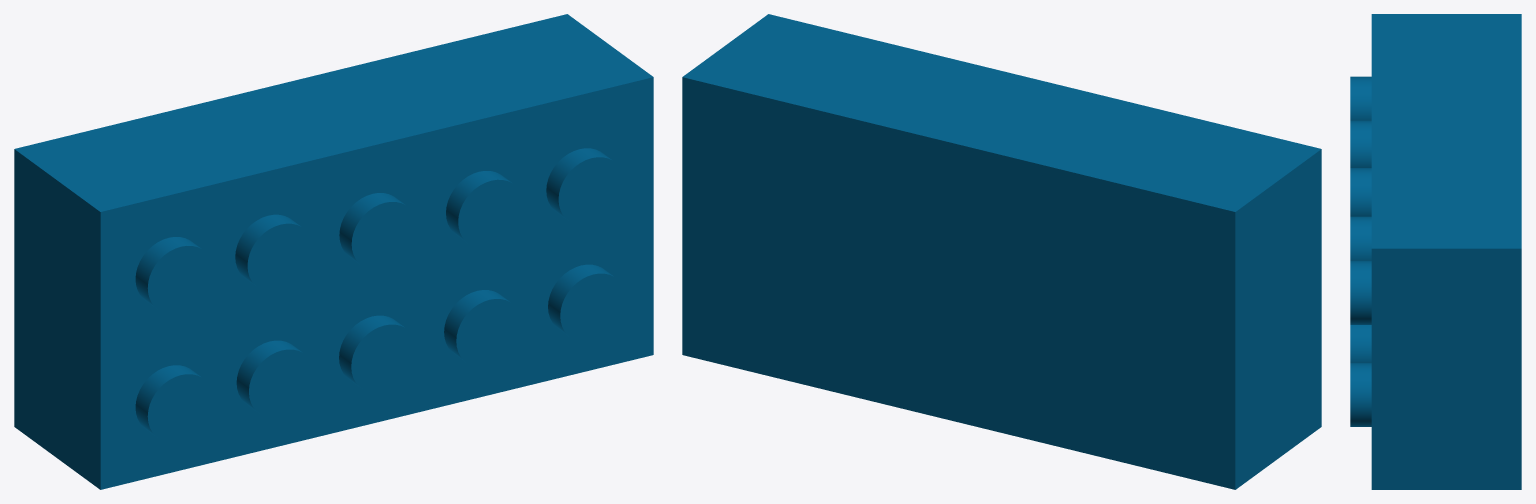
The model's file is brick-large-night-blue.glb.
The picture shows the model from 3 angles, left to right: view 1: azimuth 30°, elevation 25°; view 2: azimuth 150°, elevation 25°; view 3: azimuth 270°, elevation 25°; orthographic projection. The views are drawn at different scales.
Bounding box in the file's own units: 1 × 0.48 × 0.3084.
